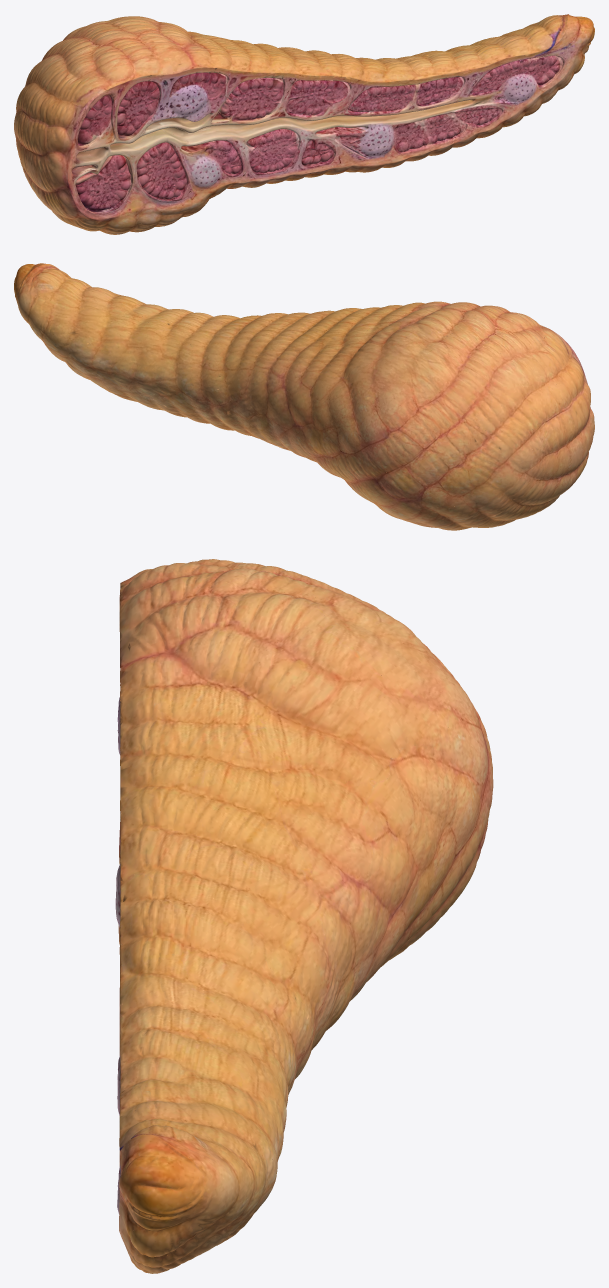
Rendered from pancreas.glb.
The picture shows the model from 3 angles, top to bottom: view 1: azimuth 30°, elevation 25°; view 2: azimuth 150°, elevation 25°; view 3: azimuth 270°, elevation 25°; orthographic projection. The views are drawn at different scales.
Parts seen in each view (by area): view 1: pancreas; view 2: pancreas; view 3: pancreas.
Boxes of the visible parts, x1,y1,x2,y2 form: pancreas: [14, 14, 594, 234]; pancreas: [14, 263, 594, 530]; pancreas: [115, 559, 493, 1273].
Size of the model in its own units: 1.17 by 0.3926 by 0.3491.
1 material, 1 textured.
